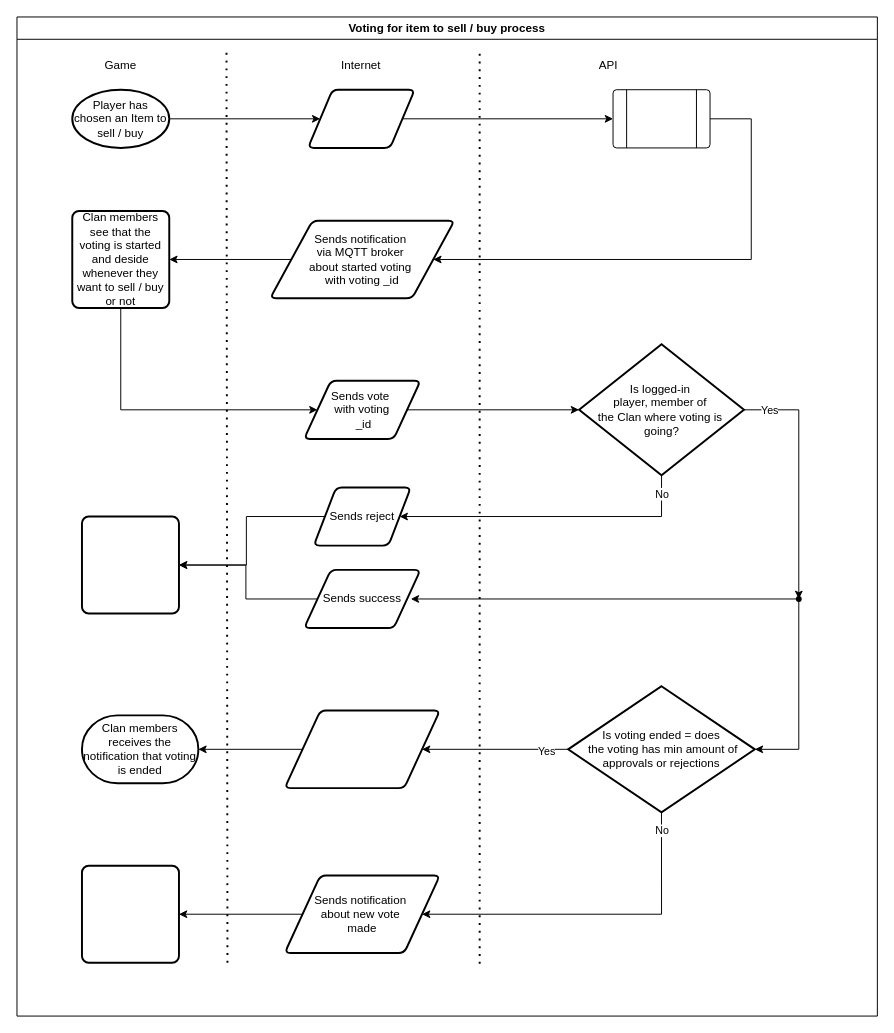
Image size: 894x1033. Some labels were removed from this diagram. Each missing label, with the centre of its shape:
"Clan members get the notification about new vote made" goes at pixel 130 913.
"Player receives the response" goes at pixel 130 564.
"Sends data of chosen Item" goes at pixel 361 118.
"Sends notification that voting is done via MQTT broker" goes at pixel 361 749.
"Voting data is saved" goes at pixel 661 118.
